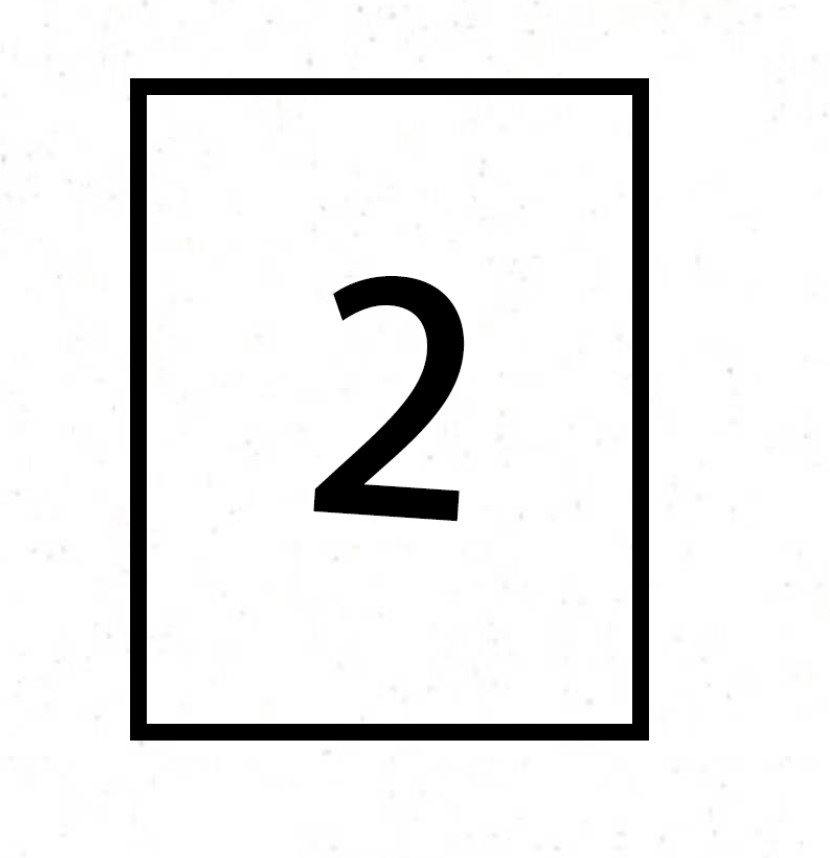two: (179, 132, 611, 675)
